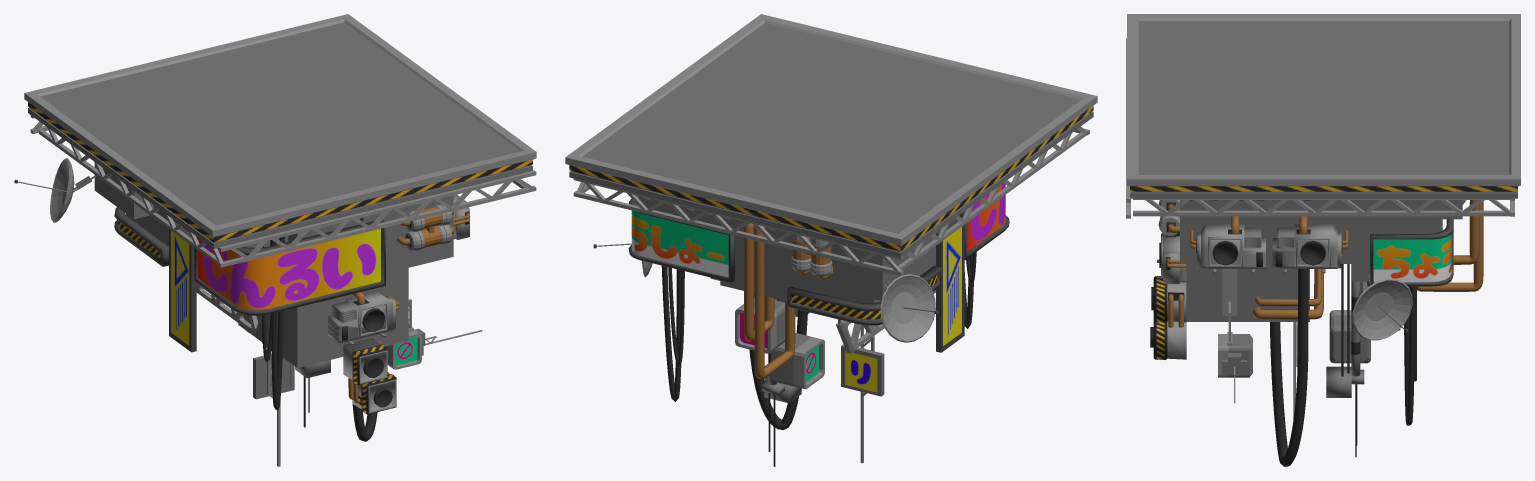
File: platform-a.glb
3 views of the same model, side by side, from view 1: azimuth 30°, elevation 25°; view 2: azimuth 150°, elevation 25°; view 3: azimuth 270°, elevation 25° (orthographic). The views are drawn at different scales.
Parts seen in each view (by area): view 1: Platform_4x4; view 2: Platform_4x4; view 3: Platform_4x4.
Boxes of the visible parts, left/top/right/bottom form: Platform_4x4: left=14, top=14, right=536, bottom=466; Platform_4x4: left=565, top=14, right=1097, bottom=466; Platform_4x4: left=1126, top=14, right=1520, bottom=466.
Bounding box in the file's own units: 4.47 × 3.76 × 3.9.
2 materials, 2 textured.
